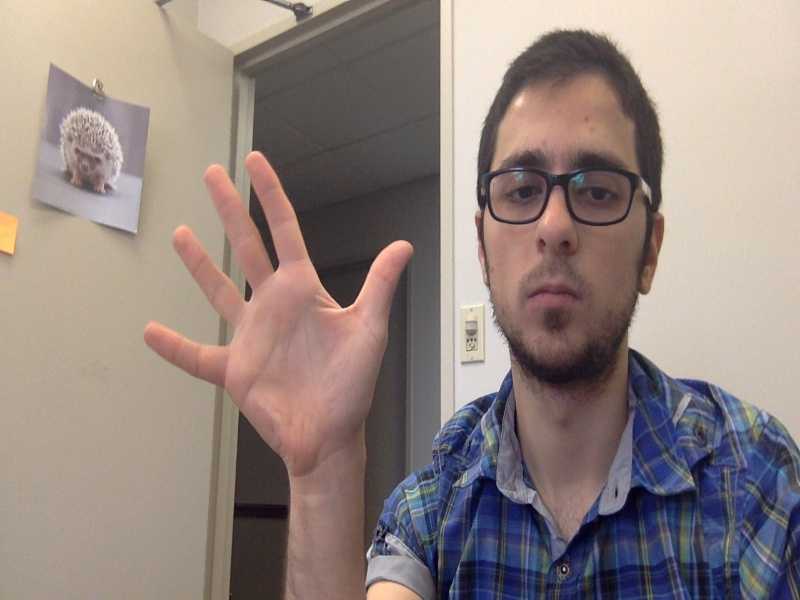5-hand: (141, 151, 414, 474)
